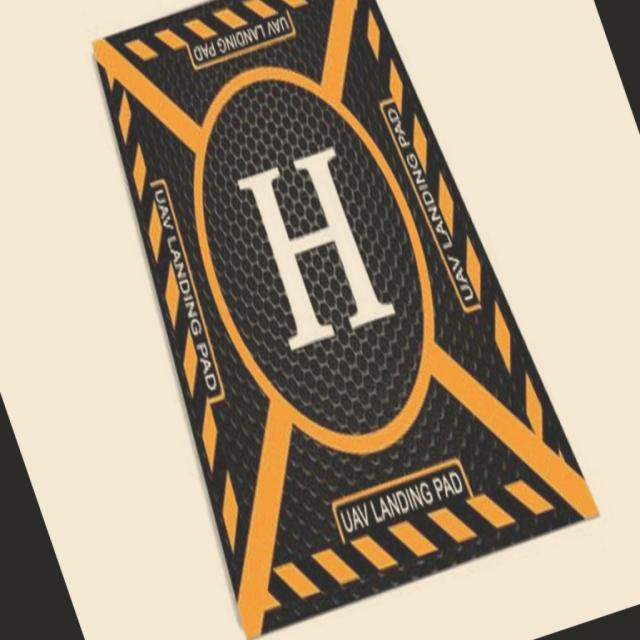helipad: (190, 61, 438, 459)
